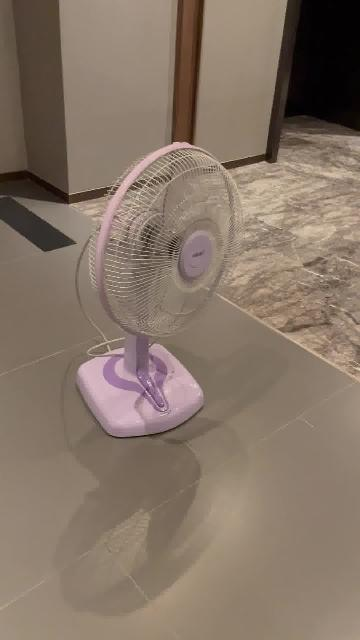Fan: (76, 146, 245, 438)
